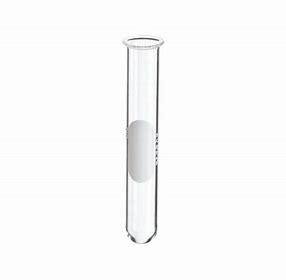Test tube: (124, 36, 163, 243)
